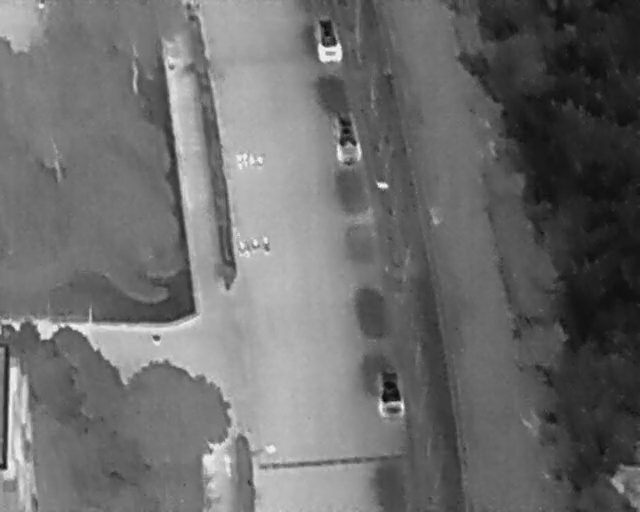Car: (330, 106, 363, 166), (374, 369, 406, 419), (313, 16, 344, 64)
Person: (262, 235, 271, 253), (239, 240, 249, 256), (251, 237, 260, 252), (257, 153, 265, 168), (248, 152, 256, 167), (236, 153, 243, 170), (242, 151, 249, 167)
